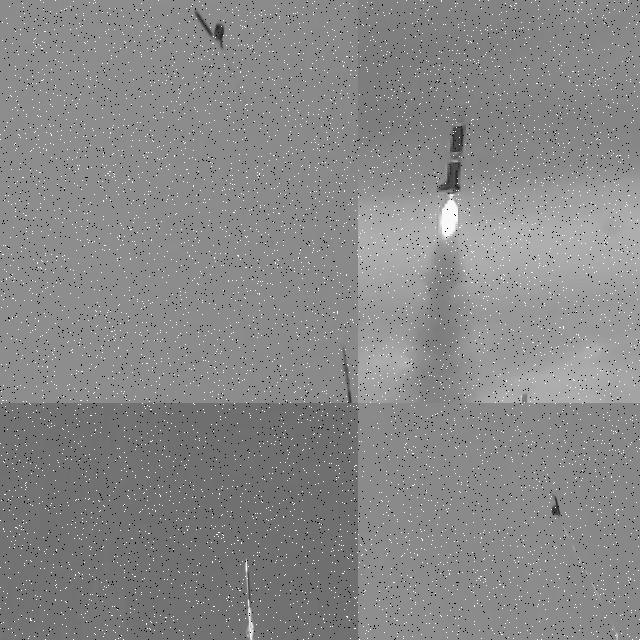Rocket: (435, 102, 469, 195), (245, 558, 255, 640), (343, 349, 357, 403), (615, 632, 621, 640)
